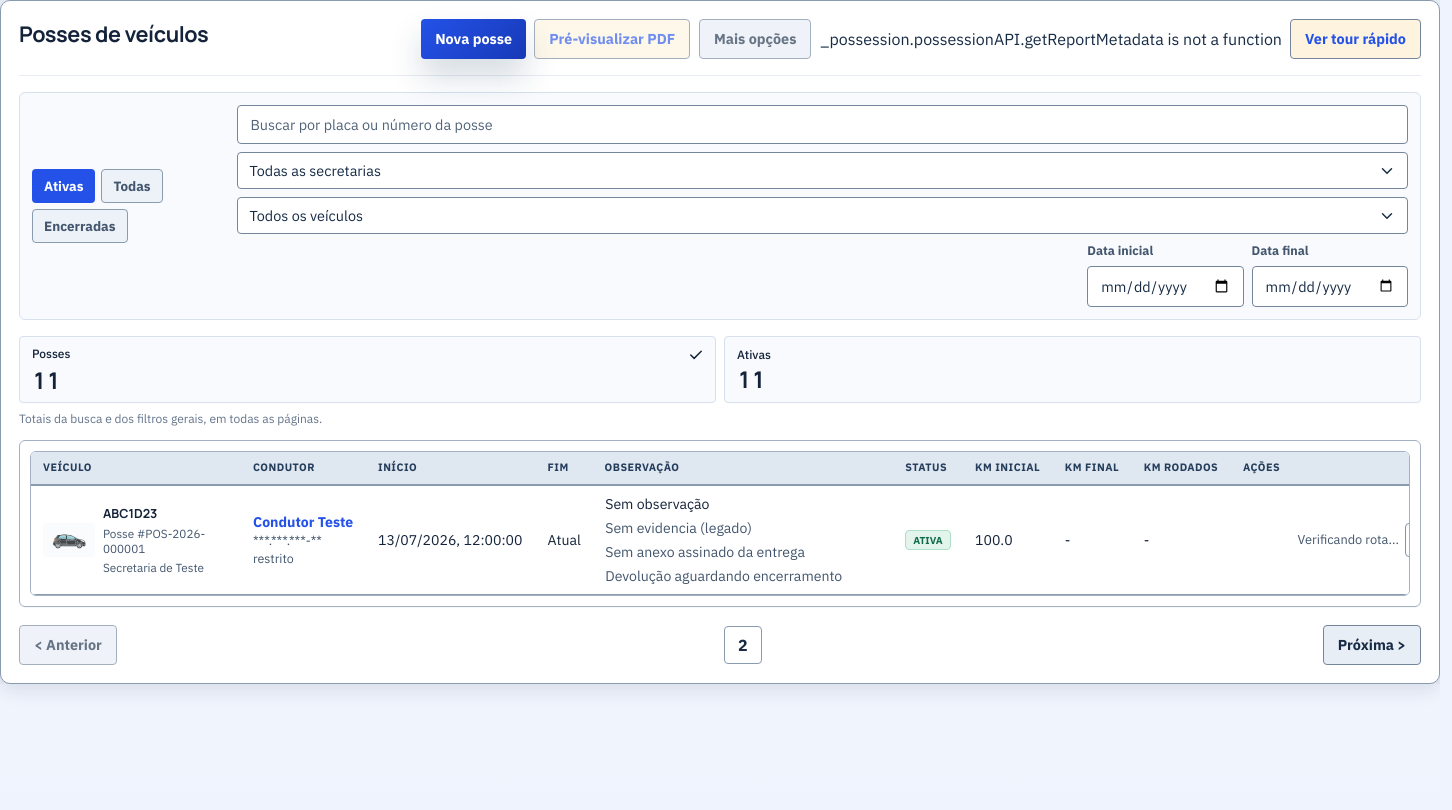
Test: PossessionPage › carrega a página solicitada no servidor e mantém o total filtrado
This screenshot has width=1452, height=810.
Click the button named "Página 2".
click(743, 645)  # box [724,626,762,664]
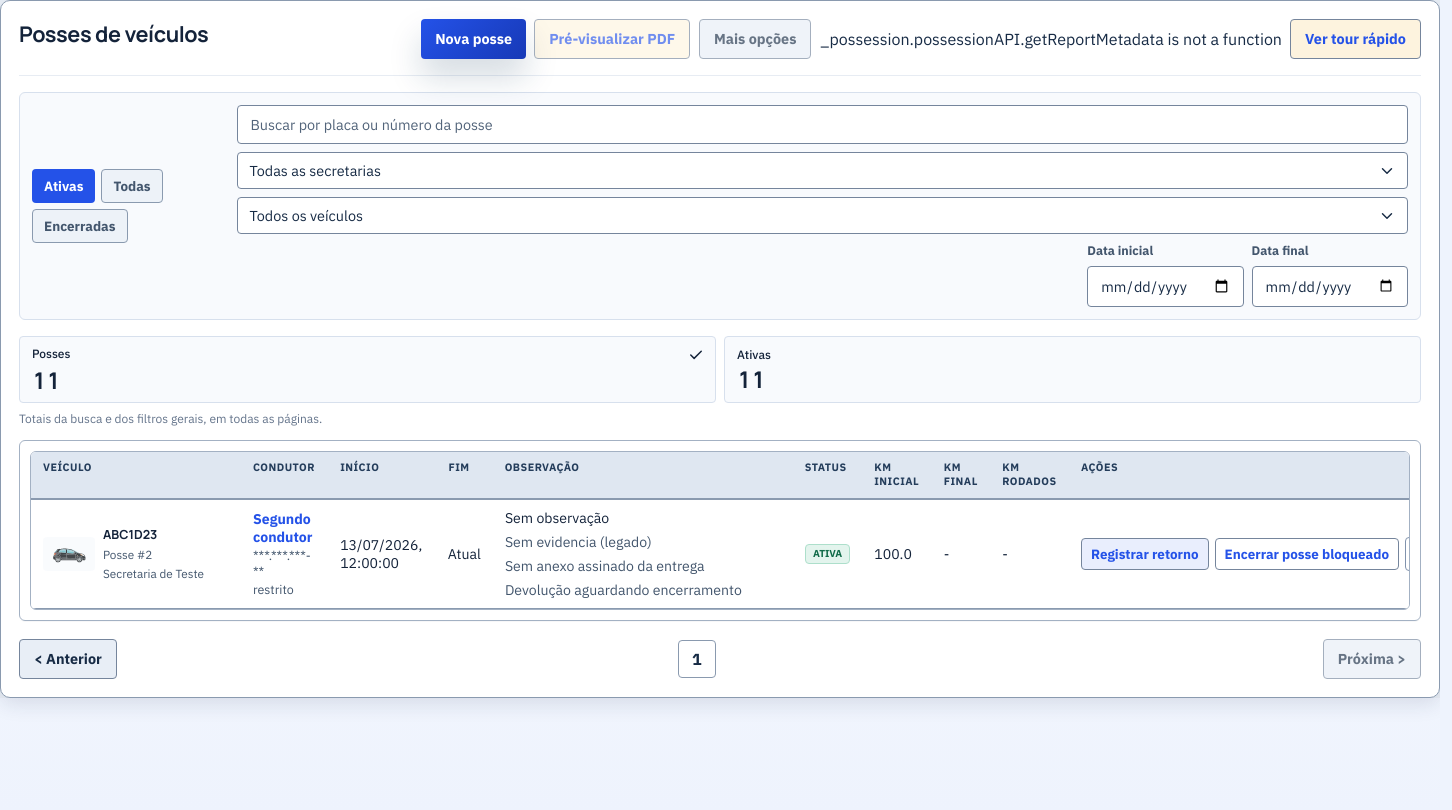
Expected: the text "11" is shown 2 times, [32,364,60,396]; [737,363,766,395]
Now the text "Segundo condutor" is shown, box [253,510,316,546]
